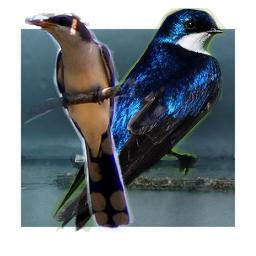Cuckoo: (25, 13, 135, 233)
Swallow: (51, 8, 226, 232)
